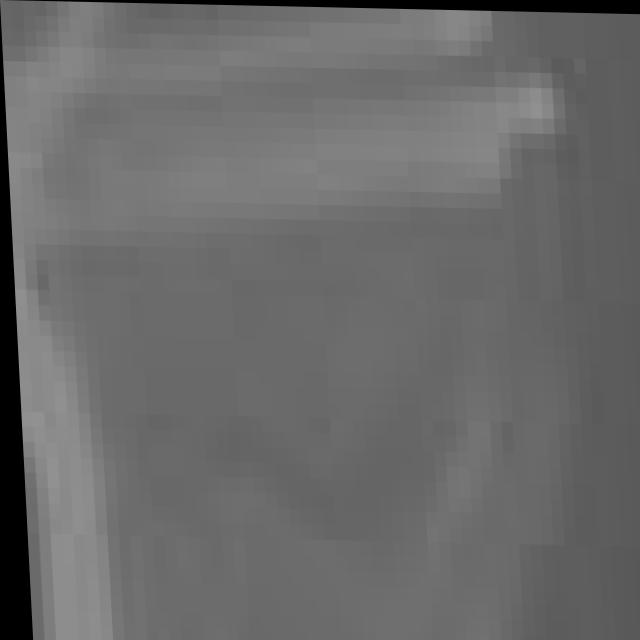fracture: (11, 10, 640, 640)
